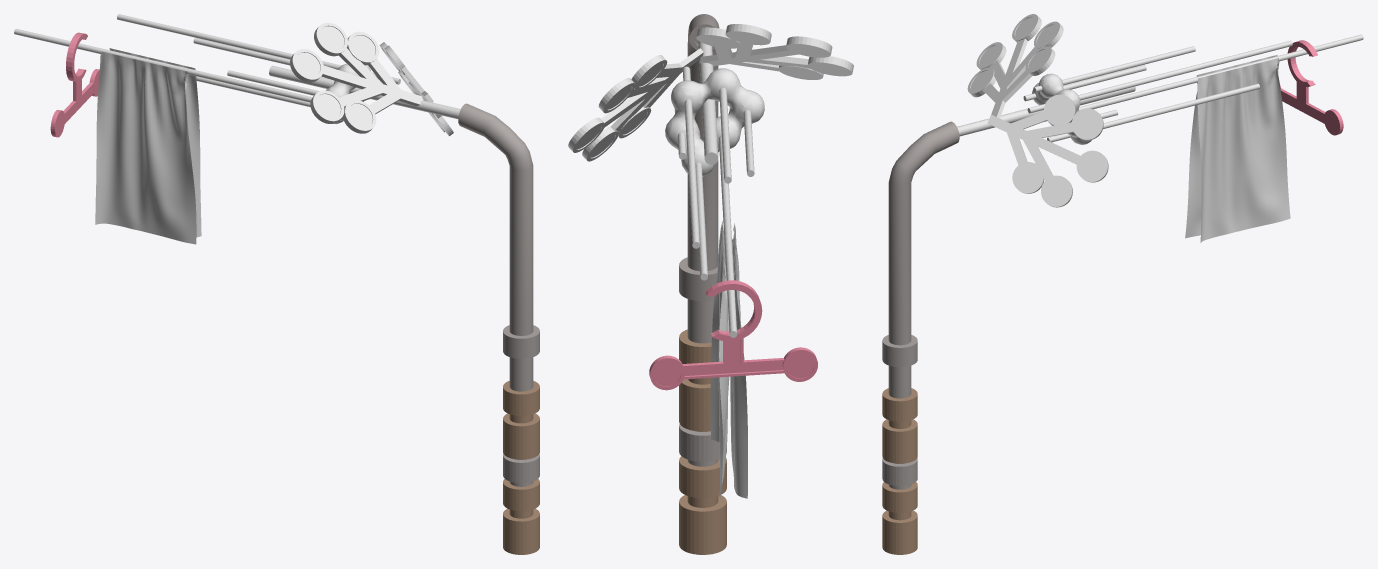
The model's file is the_tree1.fbx.
3 renders of one model, left to right at view 1: azimuth 30°, elevation 25°; view 2: azimuth 150°, elevation 25°; view 3: azimuth 270°, elevation 25°, orthographic. The views are drawn at different scales.
Parts seen in each view (by area): view 1: Plane.022, Cylinder.025, leaf_unit.002, Cylinder.023, Cylinder.022, Plane.023, Cylinder.029, Cylinder.032, Cylinder.026, Cylinder.024, Plane.012, Plane.011 (+4 smaller); view 2: Cylinder.025, Mball.002, Cylinder.022, Plane.023, Plane.022, Cylinder.023, hanger_unit.001, leaf_unit.001, leaf_unit.002, Cylinder.029, Cylinder.032, Cylinder.024 (+17 smaller); view 3: Plane.023, Cylinder.025, leaf_unit.001, Cylinder.023, Cylinder.022, Plane.022, leaf_unit.002, Cylinder.032, Cylinder.029, Cylinder.028, Cylinder.026, Mball.002 (+11 smaller).
Part boxes in pixels (box(x1,y1,x2,y2)): Plane.022: box(95, 51, 196, 244); Cylinder.025: box(458, 103, 539, 391); leaf_unit.002: box(321, 48, 422, 114); Cylinder.023: box(503, 381, 539, 459); Cylinder.022: box(503, 479, 539, 554); Plane.023: box(109, 48, 201, 237); Cylinder.029: box(14, 28, 312, 102); Cylinder.032: box(117, 14, 400, 84); Cylinder.026: box(269, 65, 460, 119); Cylinder.024: box(503, 454, 539, 486); Plane.012: box(310, 90, 344, 123); Plane.011: box(290, 49, 323, 82); Cylinder.025: box(679, 14, 719, 343); Mball.002: box(665, 68, 764, 176); Cylinder.022: box(679, 456, 726, 554); Plane.023: box(710, 221, 729, 498); Plane.022: box(730, 223, 747, 498); Cylinder.023: box(679, 329, 711, 431); hanger_unit.001: box(682, 338, 784, 379); leaf_unit.001: box(601, 48, 703, 131); leaf_unit.002: box(700, 42, 810, 71); Cylinder.029: box(719, 116, 737, 337); Cylinder.032: box(682, 66, 699, 248); Cylinder.024: box(679, 424, 726, 466); Plane.023: box(1197, 58, 1290, 242); Cylinder.025: box(882, 121, 959, 398); leaf_unit.001: box(987, 111, 1080, 180); Cylinder.023: box(882, 388, 917, 463); Cylinder.022: box(882, 482, 917, 554); Plane.022: box(1185, 55, 1278, 238); leaf_unit.002: box(983, 38, 1038, 118); Cylinder.032: box(1027, 40, 1292, 113); Cylinder.029: box(1044, 34, 1363, 121); Cylinder.028: box(1047, 83, 1259, 142); Cylinder.026: box(957, 86, 1135, 136); Mball.002: box(1032, 73, 1091, 144).
Size of the model in its own units: 965 by 1531 by 1420.
